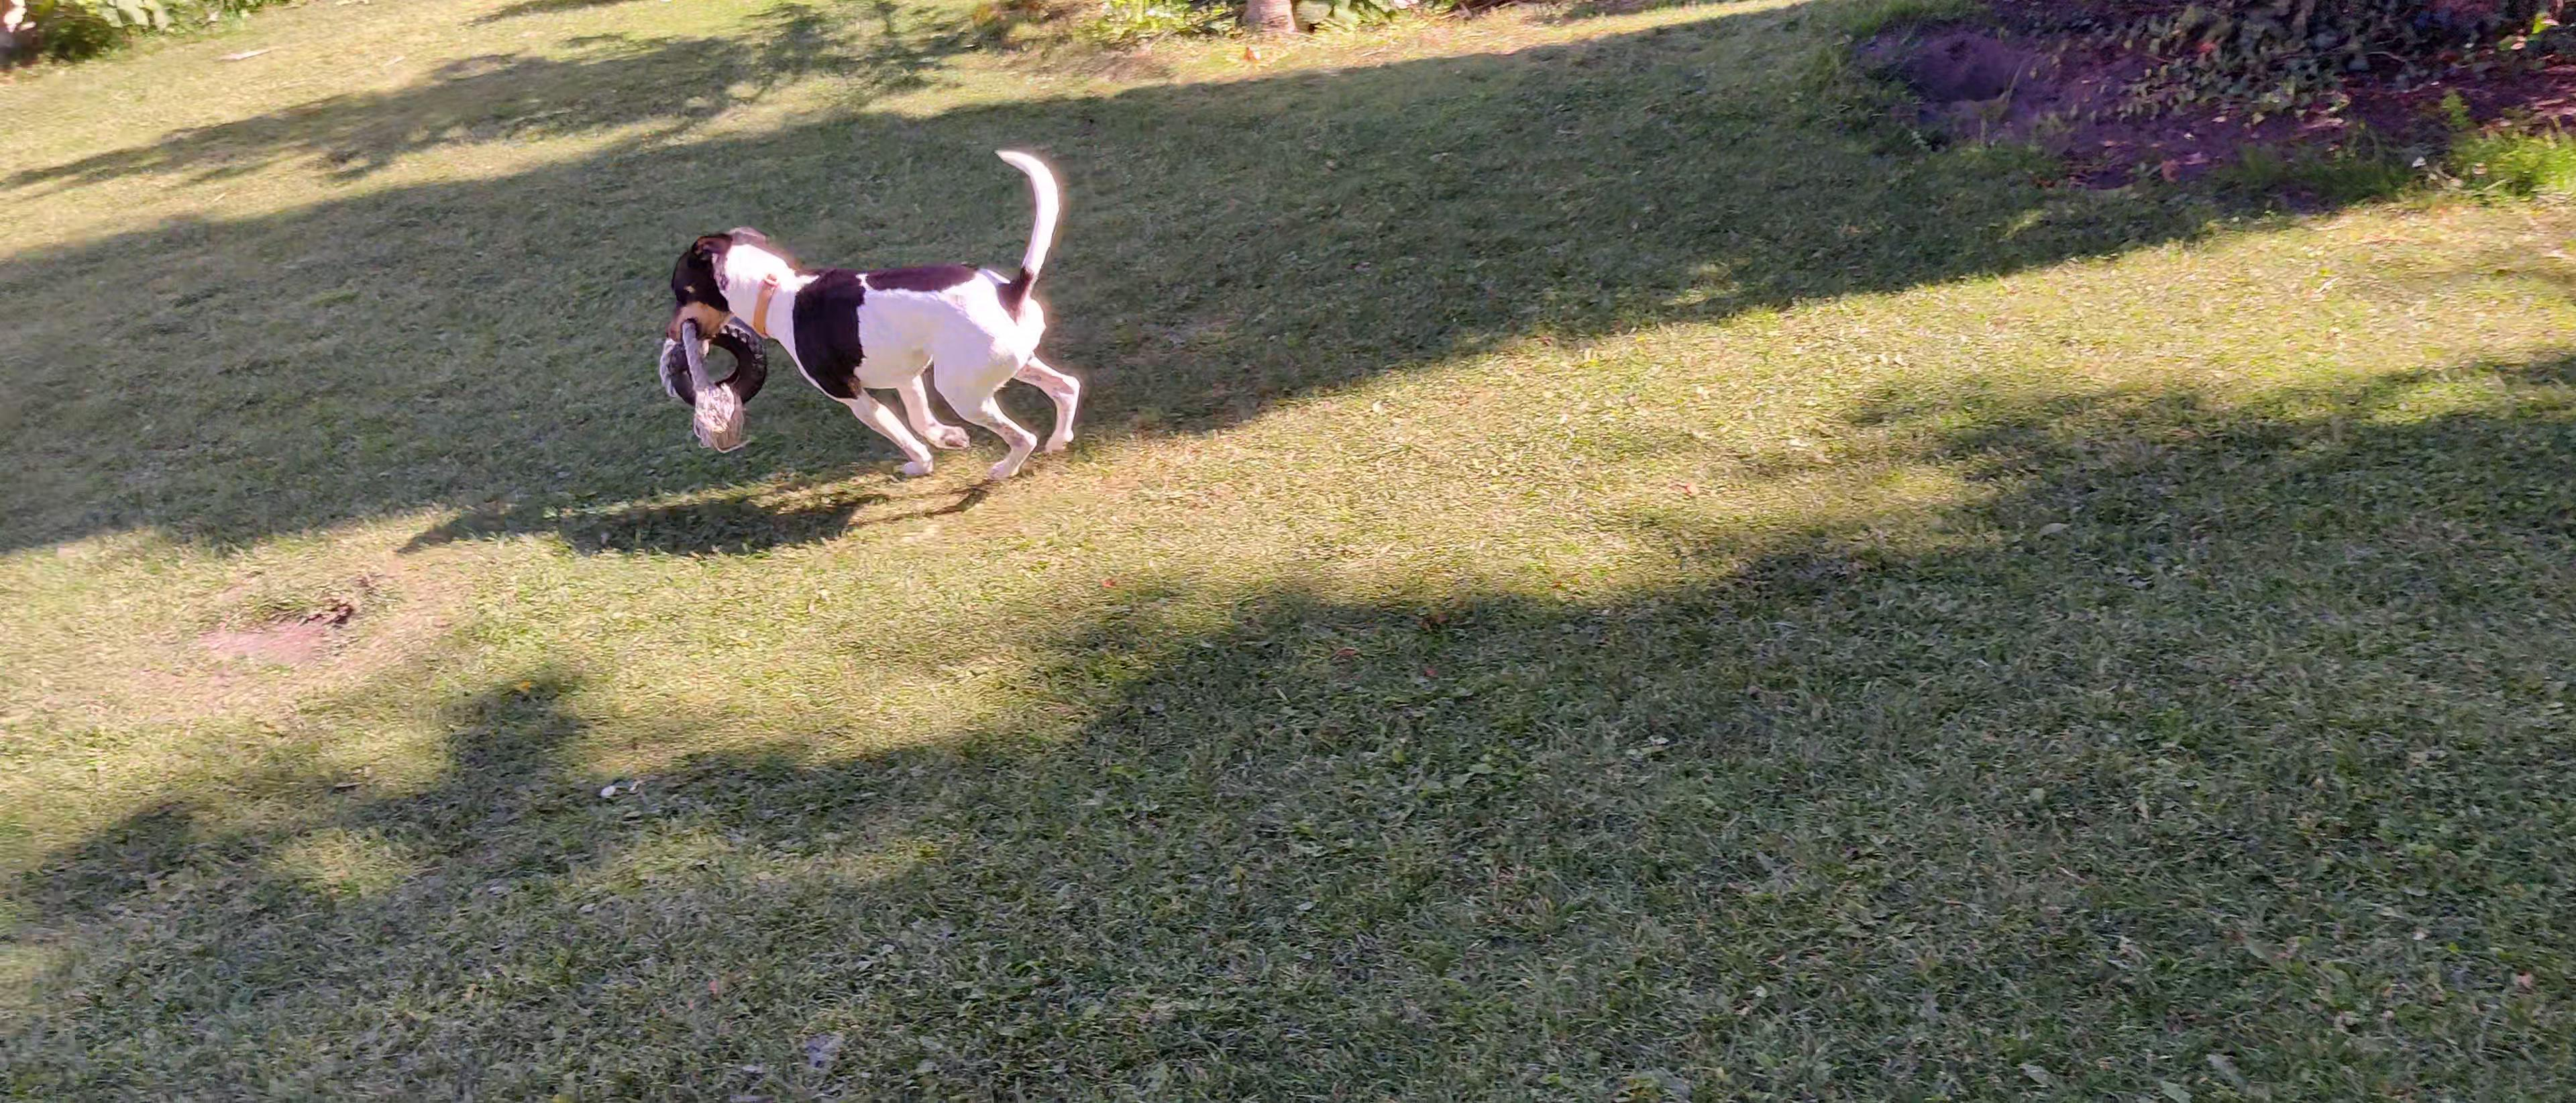Dog: (655, 130, 1097, 487)
